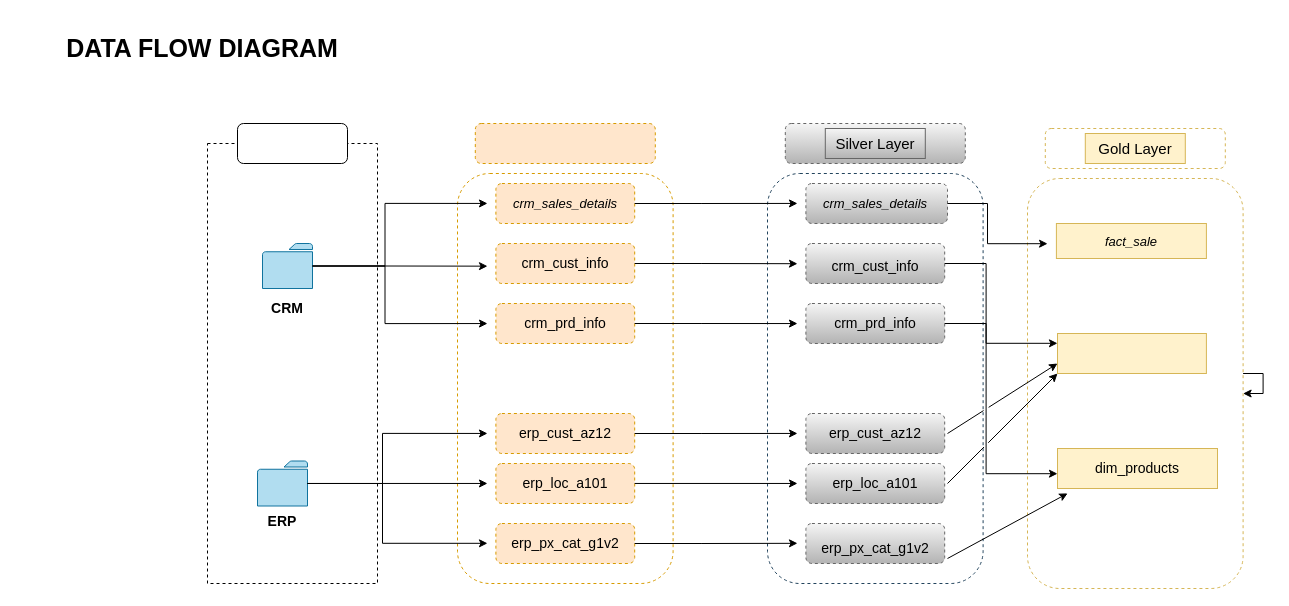
This 1289x606 diagram has some shape labels left out. The shapes that lost their labels are listed below. From the top down, each one's box as (x1, y1, x2, y2) in pixels, then its label:
(236, 122, 348, 164): Sources
(474, 122, 655, 164): Bronze Layer
(1056, 332, 1206, 374): dim_customers
